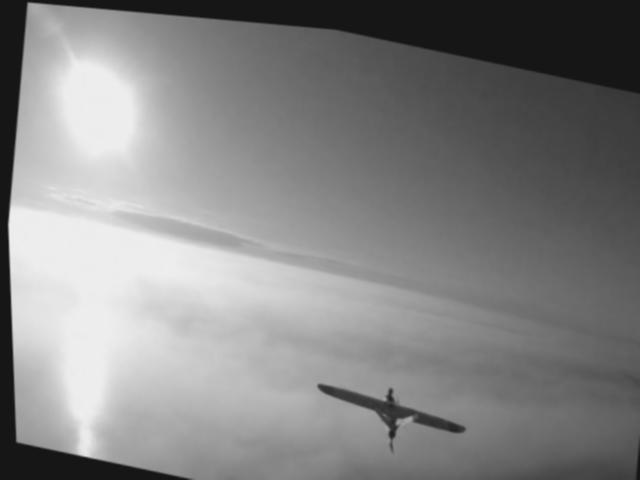hedef: (296, 360, 481, 459)
